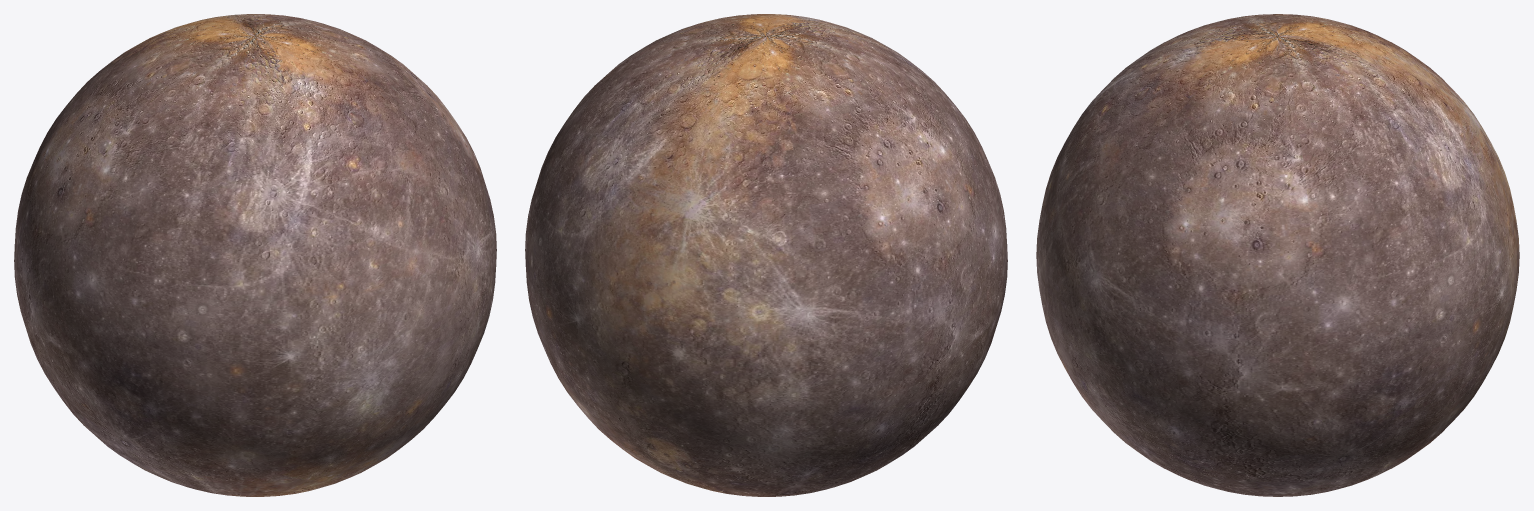
Rendered from AdobeStock_360348973_mercury.glb.
3 renders of one model, left to right at view 1: azimuth 30°, elevation 25°; view 2: azimuth 150°, elevation 25°; view 3: azimuth 270°, elevation 25°, orthographic.
Parts seen in each view (by area): view 1: mercury_GEO; view 2: mercury_GEO; view 3: mercury_GEO.
Boxes of the visible parts, x1,y1,x2,y2 form: mercury_GEO: (14,14,496,496); mercury_GEO: (525,14,1007,496); mercury_GEO: (1036,14,1519,496).
Size of the model in its own units: 8.41 by 8.41 by 8.41.
Materials: 1 (1 with a texture image).
